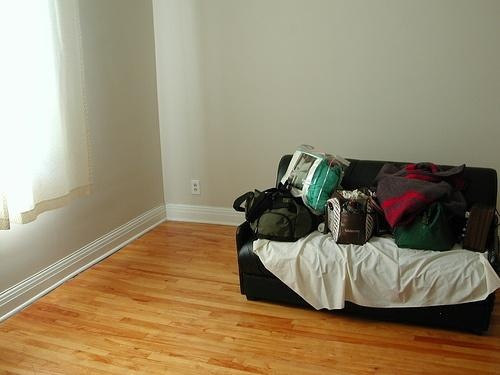sofa: (233, 153, 500, 337)
